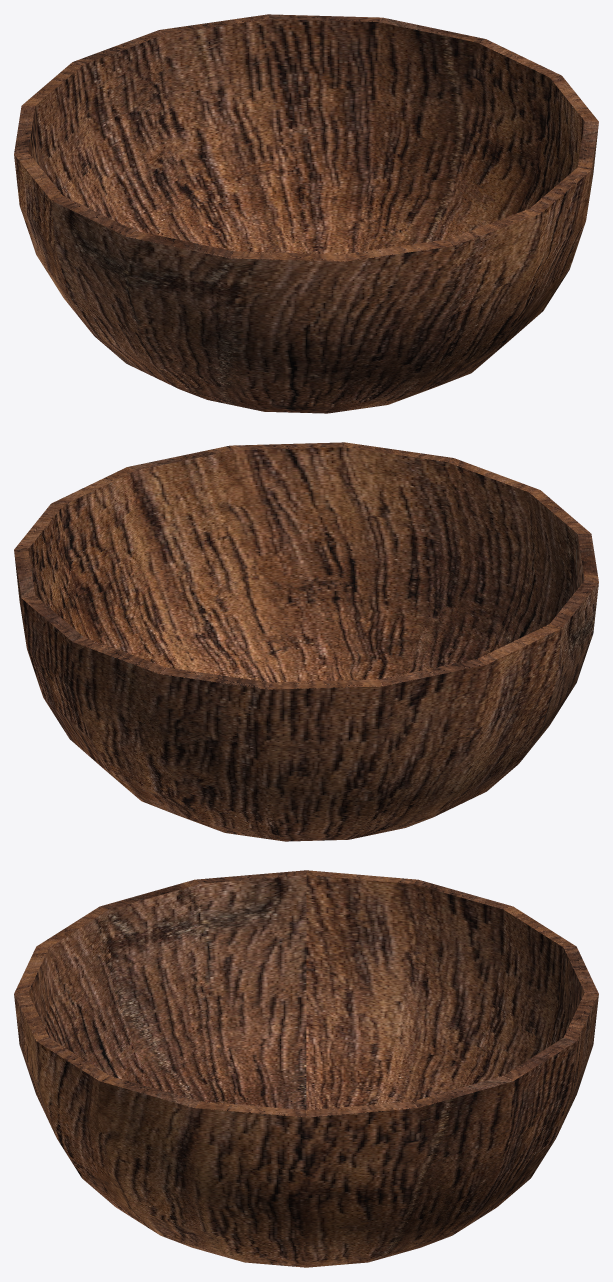
Rendered from Bowl.fbx.
3 renders of one model, top to bottom at view 1: azimuth 30°, elevation 25°; view 2: azimuth 150°, elevation 25°; view 3: azimuth 270°, elevation 25°, orthographic.
Visible parts, largest first — view 1: Bowl; view 2: Bowl; view 3: Bowl.
Boxes of the visible parts, box(x1,y1,x2,y2) form: Bowl: box(14, 14, 598, 413); Bowl: box(14, 442, 598, 841); Bowl: box(14, 870, 598, 1267).
Size of the model in its own units: 2.05 by 0.9028 by 2.05.
